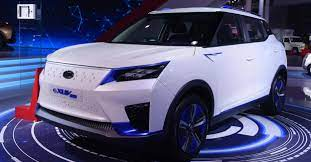XUV 400: (36, 6, 289, 159)
